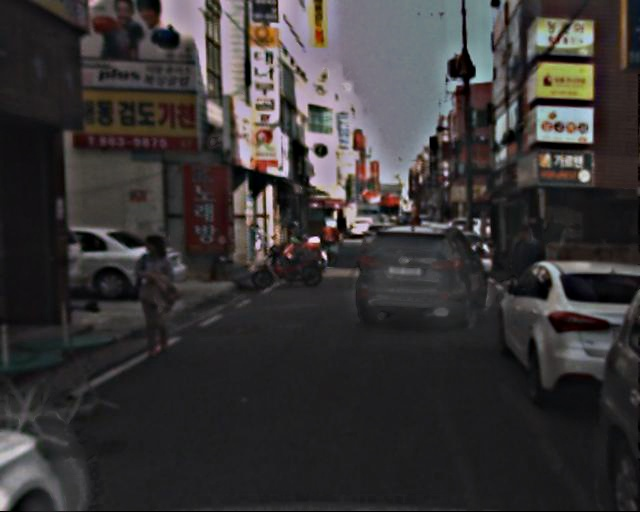person: (132, 229, 193, 354), (512, 224, 551, 311)
